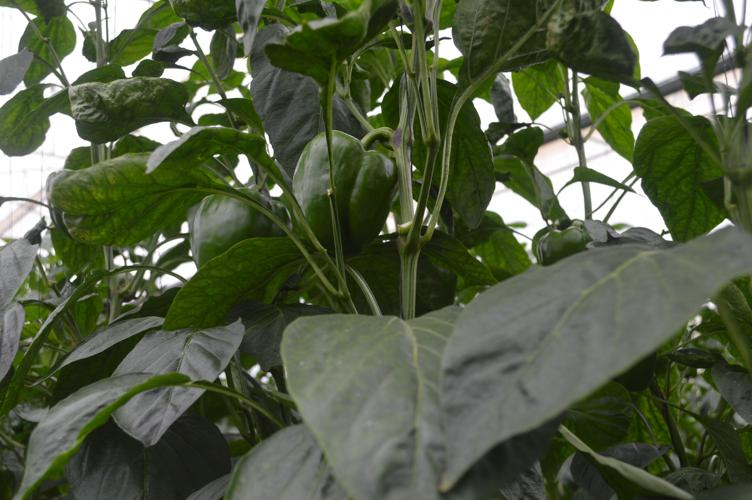BellPepper: (295, 131, 395, 248), (182, 187, 292, 260)
